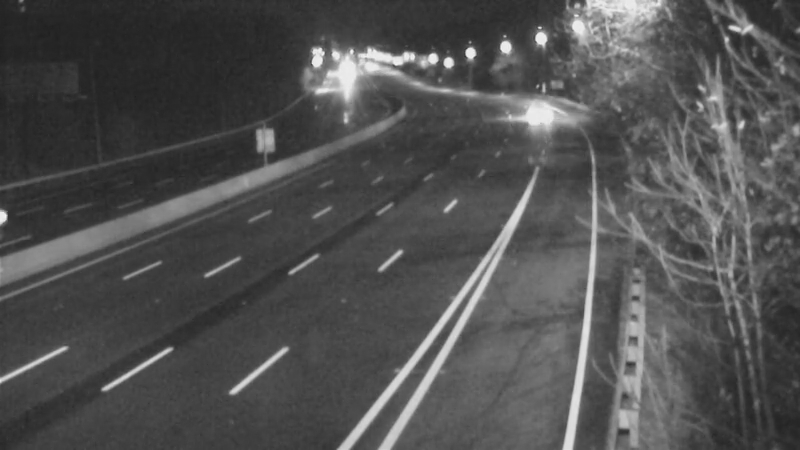vehicle: (500, 87, 550, 137)
